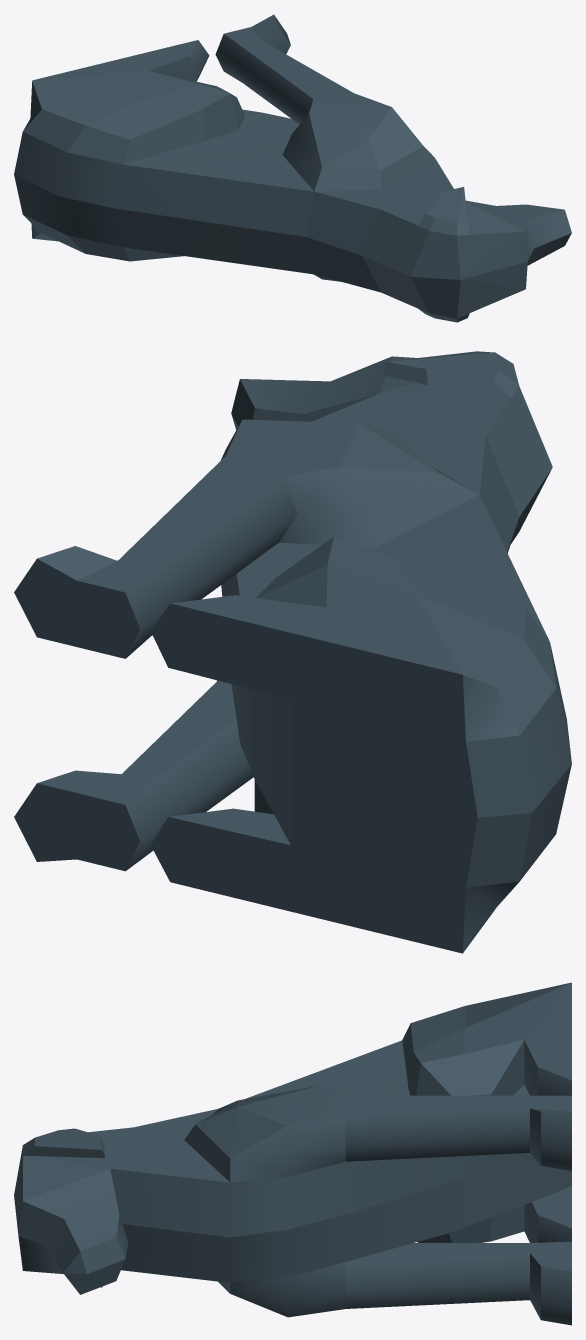
The model's file is 24WsfFi7Q8s.glb.
3 views of the same model, one above another, from view 1: azimuth 30°, elevation 25°; view 2: azimuth 150°, elevation 25°; view 3: azimuth 270°, elevation 25° (orthographic). The views are drawn at different scales.
Parts seen in each view (by area): view 1: polySurface6; view 2: polySurface6; view 3: polySurface6.
Part boxes in pixels (x1,y1,x2,y2): polySurface6: (14, 14, 571, 322); polySurface6: (14, 351, 571, 953); polySurface6: (14, 982, 571, 1325).
Bounding box in the file's own units: 2.19 × 0.9999 × 2.42.
